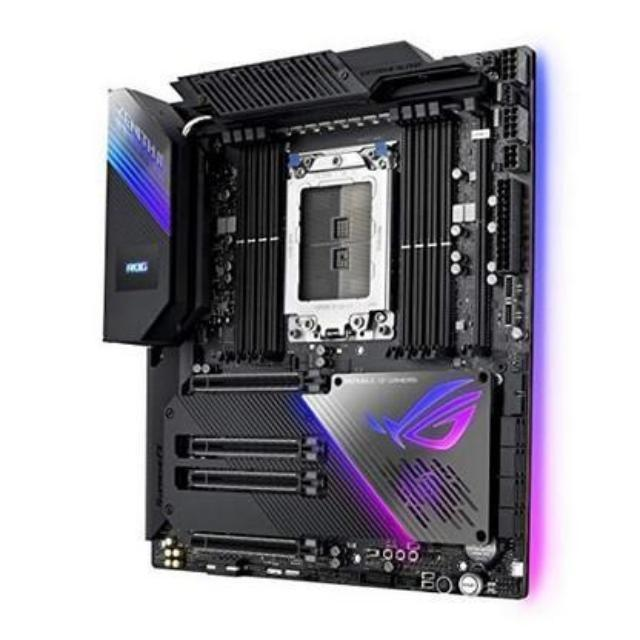Mainboard: (97, 24, 549, 607)
